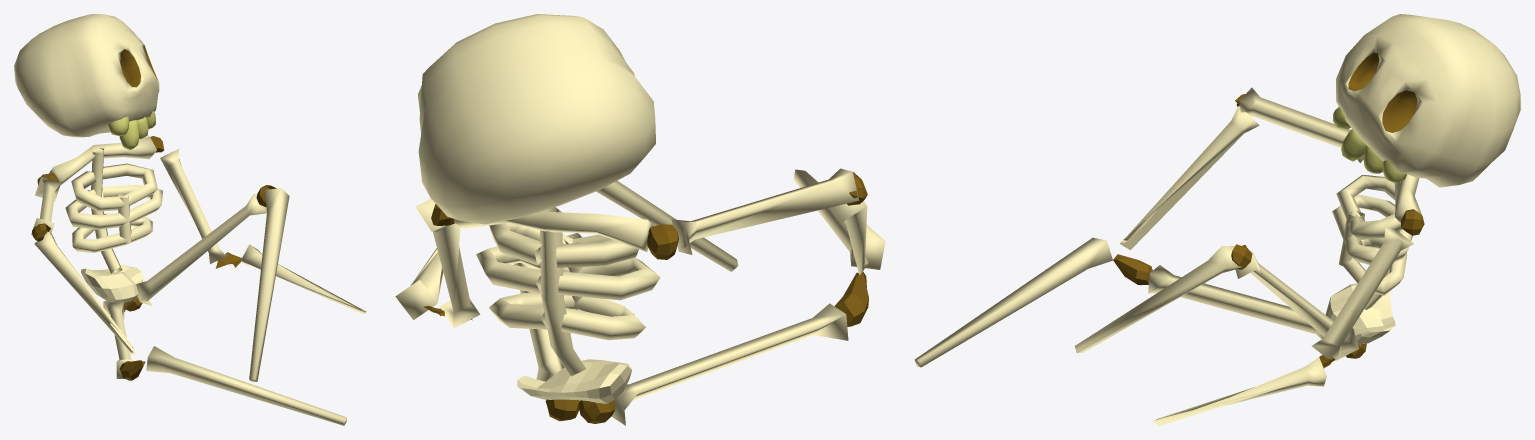
Rendered from Skeleton Sitting 02.fbx.
3 renders of one model, left to right at view 1: azimuth 30°, elevation 25°; view 2: azimuth 150°, elevation 25°; view 3: azimuth 270°, elevation 25°, orthographic. The views are drawn at different scales.
Parts seen in each view (by area): view 1: Skelly Sitting 02; view 2: Skelly Sitting 02; view 3: Skelly Sitting 02.
Boxes of the visible parts, box(x1,y1,x2,y2) form: Skelly Sitting 02: box(14, 14, 366, 425); Skelly Sitting 02: box(395, 14, 885, 425); Skelly Sitting 02: box(914, 14, 1520, 425).
Bounding box in the file's own units: 181 × 109 × 123.
